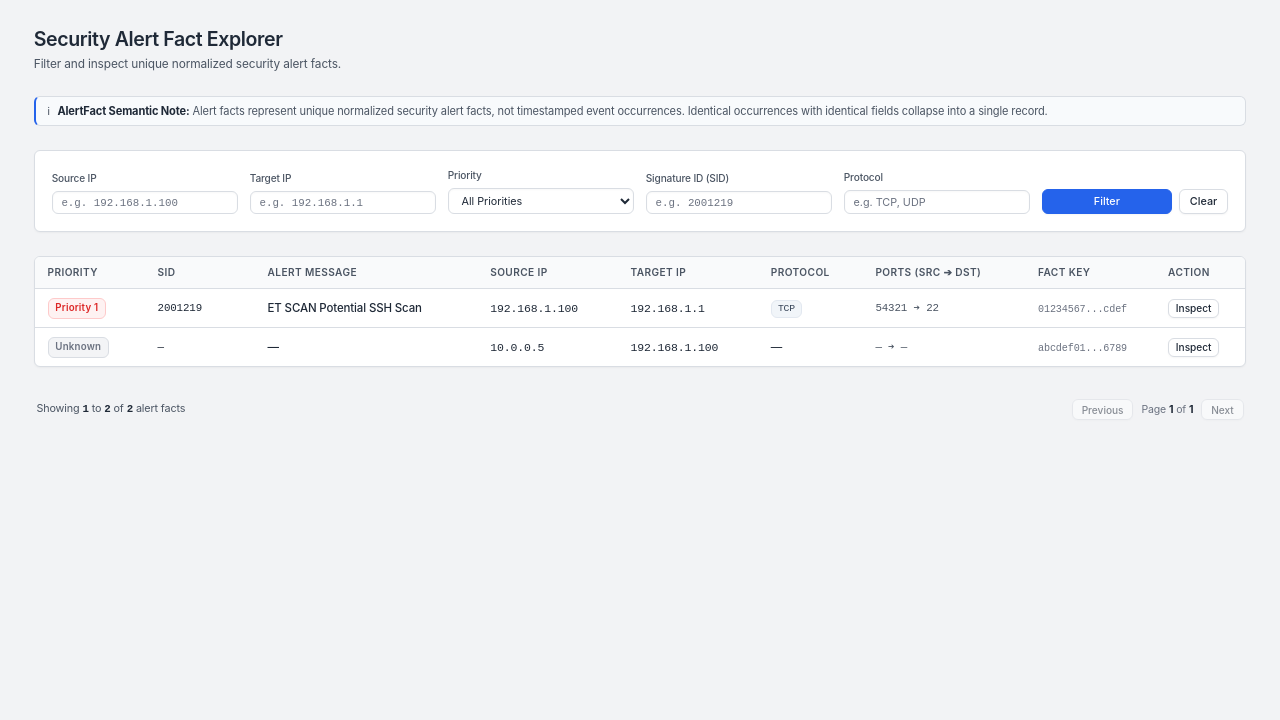
Test case: AlertExplorerPage Component › renders alert facts table with exact numeric priority and handles null fields
Check: the text "ET SCAN Potential SSH Scan" is shown, box top-left (255, 289), bottom-right (478, 328)
Check: the text "Unknown" is shown, box top-left (48, 337), bottom-right (109, 358)
# Test Inspect modal
Click the button "Inspect" in the row of "Priority 1": (1194, 308) top-left (1168, 298), bottom-right (1219, 318)
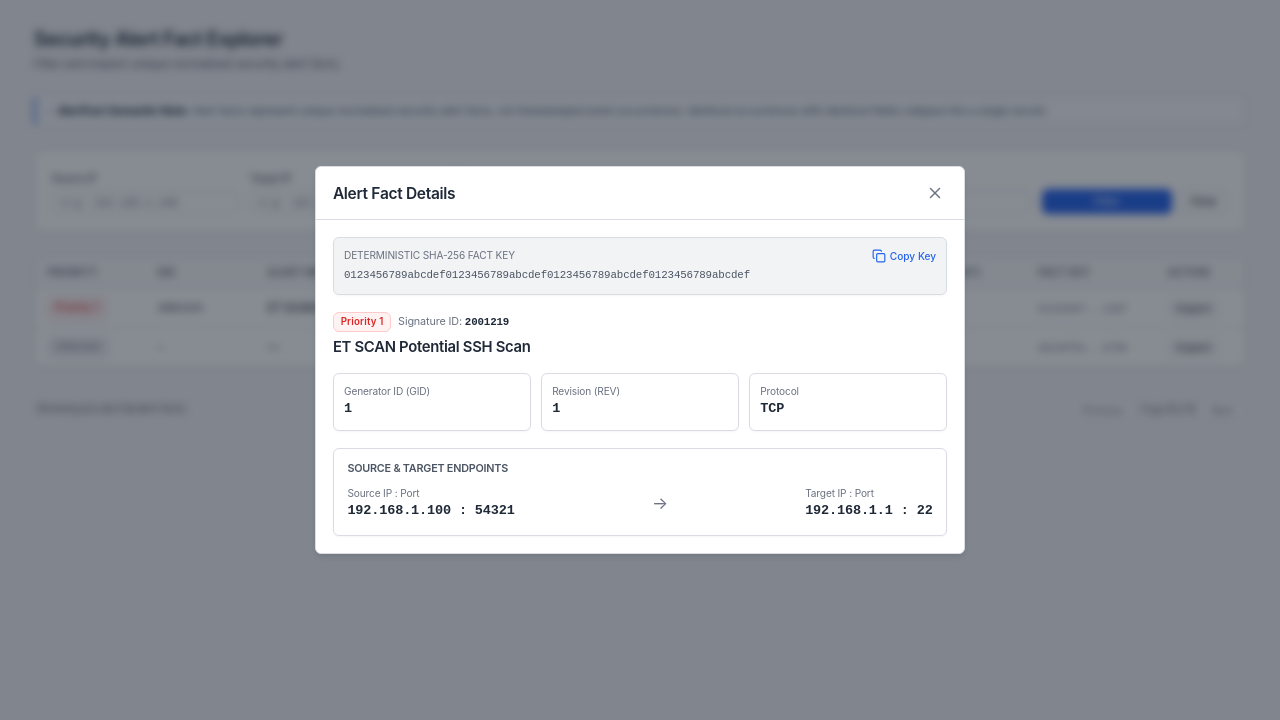
Check: the heading "Alert Fact Details" is shown, box top-left (333, 184), bottom-right (455, 203)
Check: the text "0123456789abcdef0123456789abcdef0123456789abcdef0123456789abcdef" is shown, box top-left (344, 269), bottom-right (750, 281)
